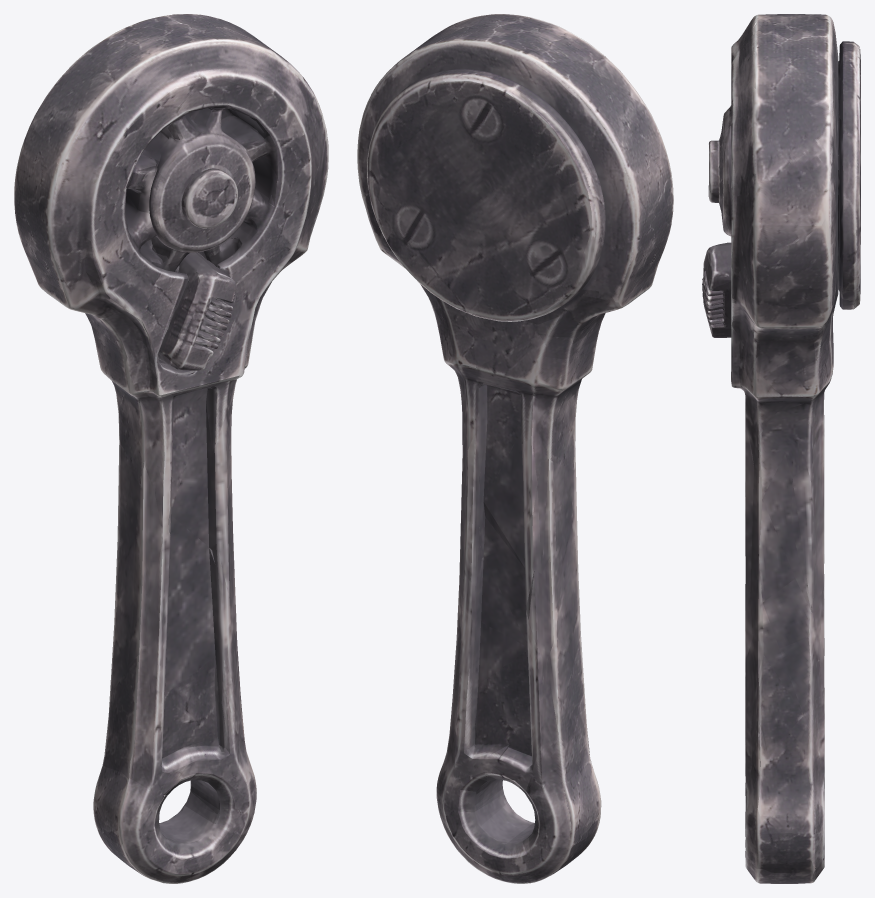
Rendered from ratchet.glb.
3 renders of one model, left to right at view 1: azimuth 30°, elevation 25°; view 2: azimuth 150°, elevation 25°; view 3: azimuth 270°, elevation 25°, orthographic.
Visible parts, largest first — view 1: Mesh_0; view 2: Mesh_0; view 3: Mesh_0.
Part boxes in pixels (<box>): Mesh_0: <box>14,14,328,883</box>; Mesh_0: <box>357,14,673,883</box>; Mesh_0: <box>702,14,860,883</box>.
Bounding box in the file's own units: 0.6673 × 1.9 × 0.3238.
Materials: 1 (1 with a texture image).
